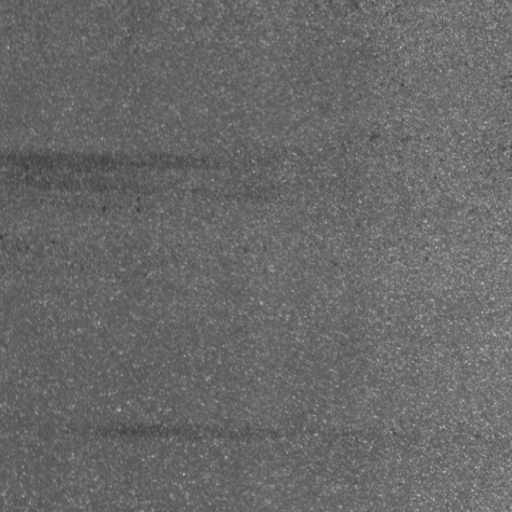hengxianghuashang: (4, 149, 279, 197), (78, 421, 326, 444)
